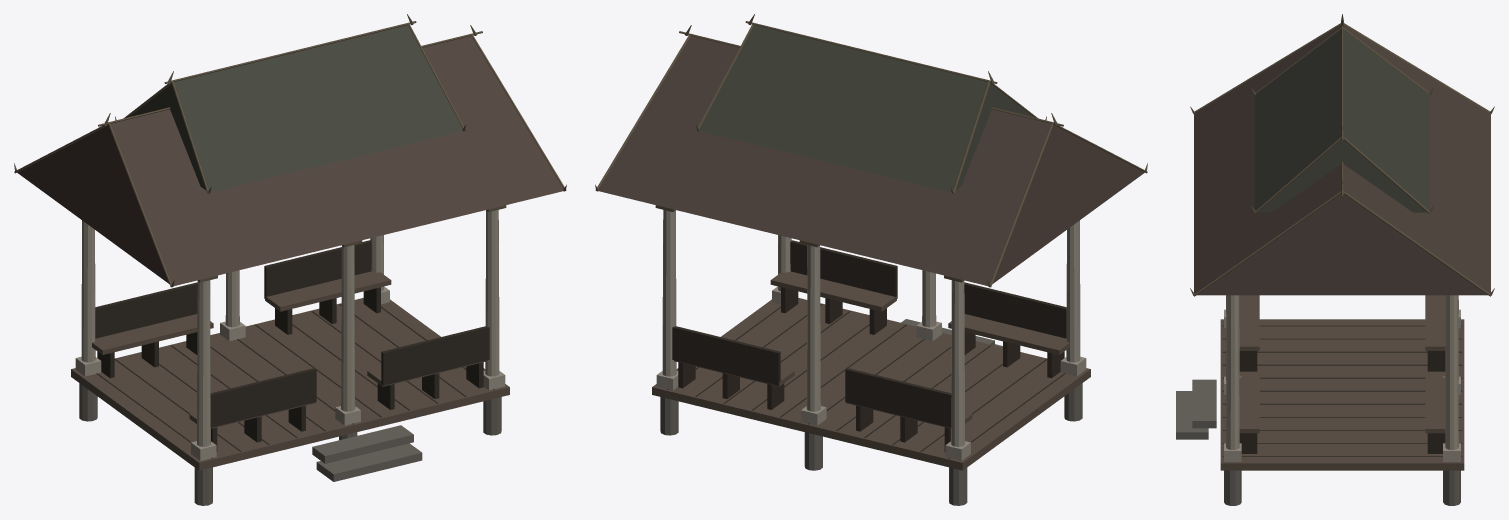
Rendered from thai_sala.glb.
3 renders of one model, left to right at view 1: azimuth 30°, elevation 25°; view 2: azimuth 150°, elevation 25°; view 3: azimuth 270°, elevation 25°, orthographic. The views are drawn at different scales.
Visible parts, largest first — view 1: thai_sala; view 2: thai_sala; view 3: thai_sala.
Boxes of the visible parts, box(x1,y1,x2,y2) form: thai_sala: box(14, 14, 566, 505); thai_sala: box(595, 14, 1147, 505); thai_sala: box(1176, 14, 1494, 505).
Bounding box in the file's own units: 5.35 × 4.93 × 3.93.
